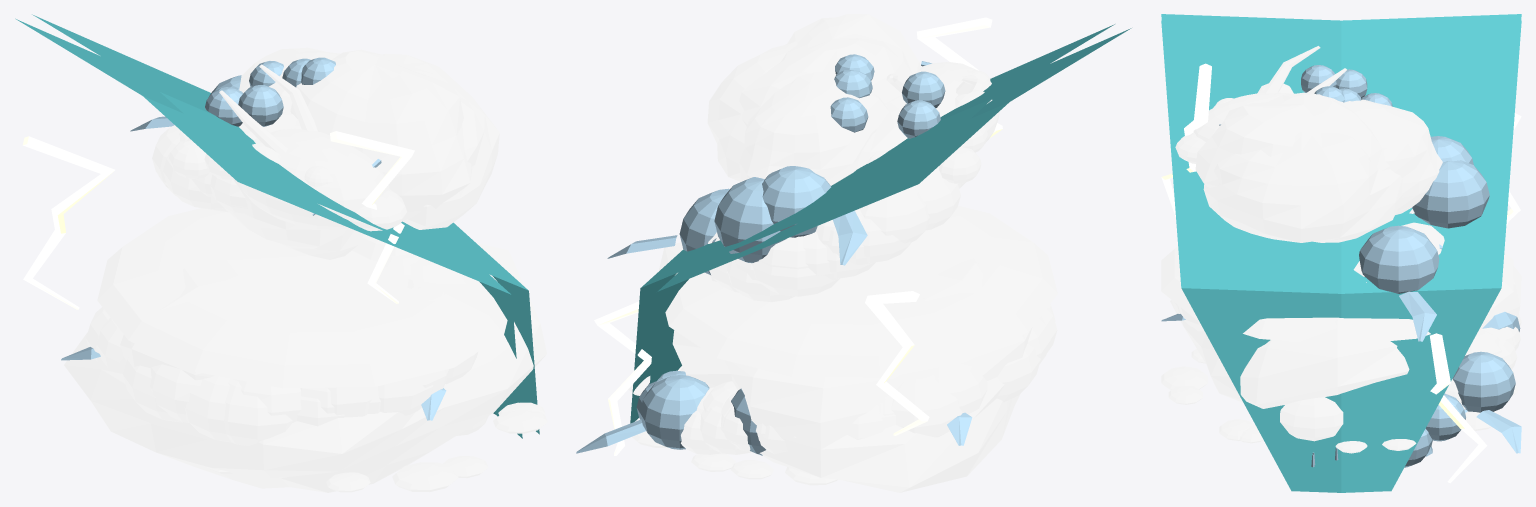
Rendered from maitre-archipel-v5.glb.
The picture shows the model from 3 angles, left to right: view 1: azimuth 30°, elevation 25°; view 2: azimuth 150°, elevation 25°; view 3: azimuth 270°, elevation 25°; orthographic projection. The views are drawn at different scales.
Parts seen in each view (by area): view 1: maitre_archipel_ilot.002, maitre_archipel_corps.002, maitre_archipel_ilot_lueur.001, maitre_archipel_lumieres.001, maitre_archipel_eclairs_lueur.001; view 2: maitre_archipel_ilot.002, maitre_archipel_corps.002, maitre_archipel_lumieres.001, maitre_archipel_ilot_lueur.001, maitre_archipel_eclairs_lueur.001; view 3: maitre_archipel_ilot_lueur.001, maitre_archipel_ilot.002, maitre_archipel_lumieres.001, maitre_archipel_corps.002, maitre_archipel_eclairs_lueur.001.
Boxes of the visible parts, box(x1,y1,x2,y2) form: maitre_archipel_ilot.002: box(64, 47, 546, 492); maitre_archipel_corps.002: box(86, 64, 547, 492); maitre_archipel_ilot_lueur.001: box(15, 14, 539, 438); maitre_archipel_lumieres.001: box(61, 57, 446, 420); maitre_archipel_eclairs_lueur.001: box(22, 131, 414, 309); maitre_archipel_ilot.002: box(658, 14, 1057, 492); maitre_archipel_corps.002: box(628, 62, 1057, 485); maitre_archipel_lumieres.001: box(576, 54, 972, 455); maitre_archipel_ilot_lueur.001: box(630, 24, 1131, 423); maitre_archipel_eclairs_lueur.001: box(594, 17, 1002, 455); maitre_archipel_ilot_lueur.001: box(1161, 14, 1521, 492); maitre_archipel_ilot.002: box(1161, 92, 1521, 408); maitre_archipel_lumieres.001: box(1161, 65, 1521, 467); maitre_archipel_corps.002: box(1161, 46, 1521, 453); maitre_archipel_eclairs_lueur.001: box(1161, 63, 1521, 483).
Bounding box in the file's own units: 2 × 2 × 2.
